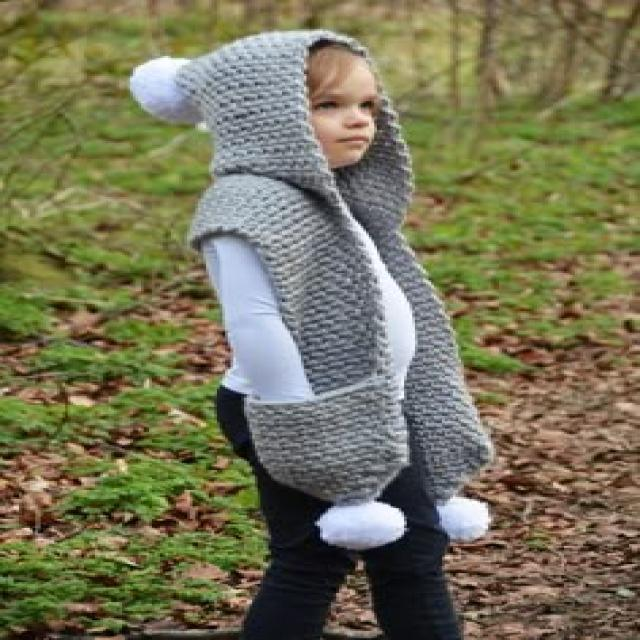4_capucha: (174, 29, 418, 212)
